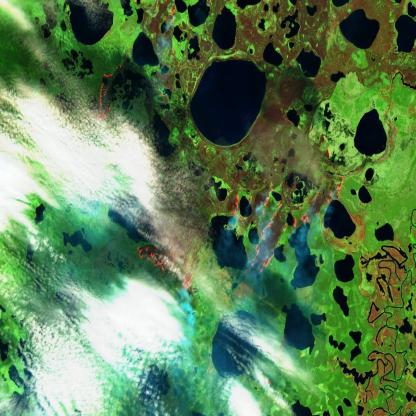fire: (230, 178, 345, 257), (137, 232, 197, 290), (90, 60, 124, 126), (133, 0, 177, 34)
